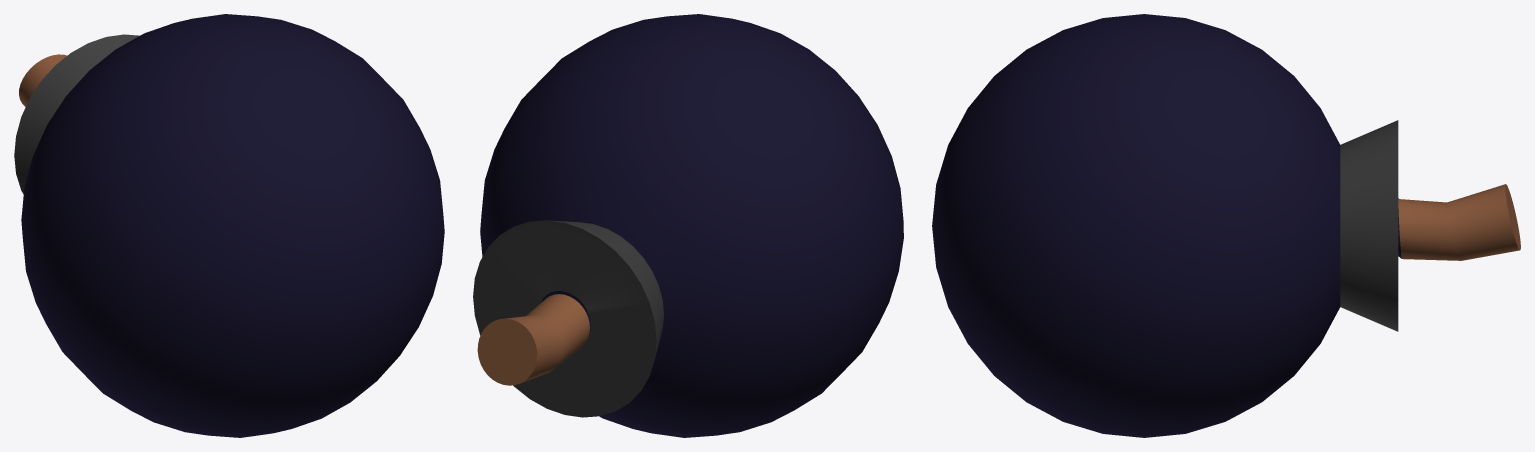
File: bomb.fbx
3 views of the same model, side by side, from view 1: azimuth 30°, elevation 25°; view 2: azimuth 150°, elevation 25°; view 3: azimuth 270°, elevation 25° (orthographic).
Visible parts, largest first — view 1: Sphere; view 2: Sphere; view 3: Sphere.
Part boxes in pixels (left/top/right/bottom): Sphere: left=14, top=14, right=444, bottom=437; Sphere: left=473, top=14, right=903, bottom=437; Sphere: left=932, top=14, right=1520, bottom=437.
Bounding box in the file's own units: 337 × 337 × 467.
